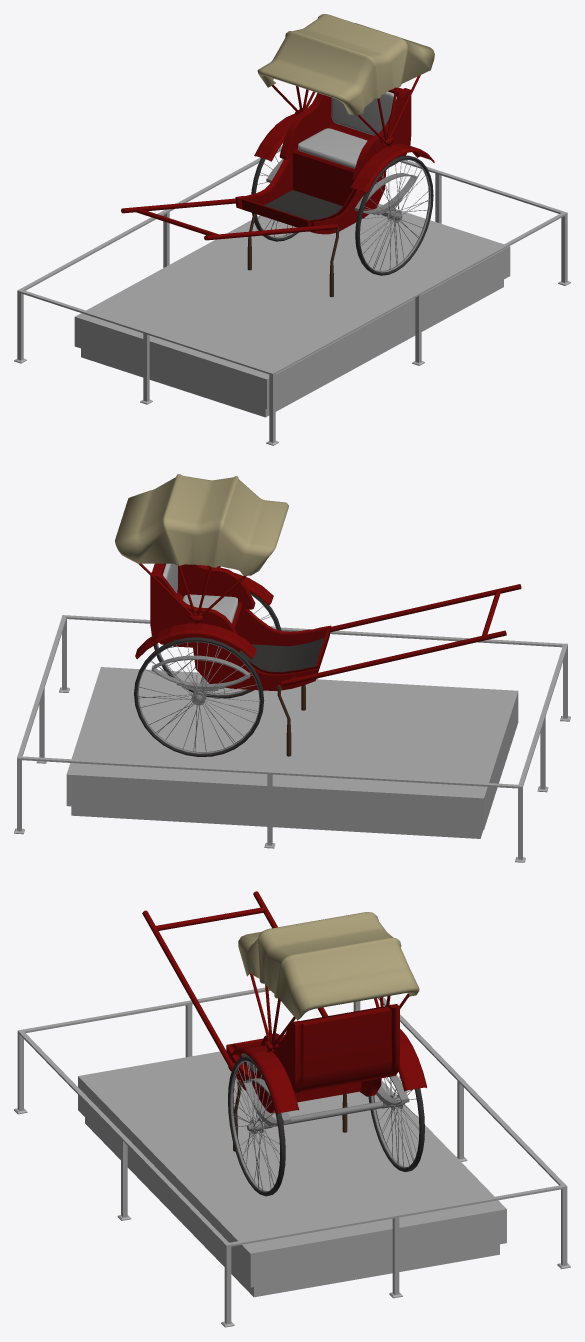
Rendered from quizRickshawExhibit.fbx.
3 views of the same model, one above another, from view 1: azimuth 30°, elevation 25°; view 2: azimuth 150°, elevation 25°; view 3: azimuth 270°, elevation 25° (orthographic). The views are drawn at different scales.
Visible parts, largest first — view 1: rickshawStand, rickshawBody, roof, barrier8, pillow, spoke, tire, pillow1, barrier9, mudguard_r, barrier5, barrier7 (+6 smaller); view 2: rickshawStand, roof, rickshawBody, tire, spoke, barrier7, barrier, mudguard_l, pole_l, barrier8, pole_r, shockabsober (+6 smaller); view 3: rickshawStand, roof, rickshawBody, spoke, barrier8, tire, mudguard_r, barrier1, barrier, barrier9, shockabsober, barrier5 (+7 smaller).
Part boxes in pixels (x1,y1,x2,y2): rickshawStand: [74, 203, 510, 417]; rickshawBody: [235, 87, 411, 234]; roof: [257, 14, 434, 115]; barrier8: [418, 171, 570, 293]; pillow: [298, 128, 367, 168]; spoke: [257, 146, 429, 270]; tire: [251, 155, 433, 275]; pillow1: [331, 91, 396, 135]; barrier9: [272, 291, 424, 373]; mudguard_r: [350, 143, 434, 193]; barrier5: [140, 330, 271, 404]; barrier7: [20, 209, 169, 290]; rickshawStand: [66, 667, 518, 838]; roof: [115, 474, 288, 575]; rickshawBody: [150, 563, 331, 690]; tire: [134, 592, 281, 756]; spoke: [138, 606, 274, 752]; barrier7: [264, 770, 518, 848]; barrier: [14, 756, 267, 834]; mudguard_l: [135, 623, 256, 659]; pole_l: [281, 630, 506, 685]; barrier8: [40, 615, 310, 692]; pole_r: [330, 584, 521, 632]; shockabsober: [151, 623, 266, 691]; rickshawStand: [78, 1051, 506, 1297]; roof: [238, 912, 419, 1020]; rickshawBody: [226, 1004, 399, 1113]; spoke: [232, 1062, 419, 1190]; barrier8: [123, 1138, 394, 1327]; tire: [228, 1056, 424, 1196]; mudguard_r: [229, 1044, 299, 1114]; barrier1: [389, 1185, 562, 1298]; barrier: [459, 1080, 570, 1269]; barrier9: [19, 1031, 131, 1220]; shockabsober: [243, 1074, 409, 1128]; barrier5: [22, 1000, 192, 1057].
Bounding box in the file's own units: 4.92 × 2.44 × 4.18.
